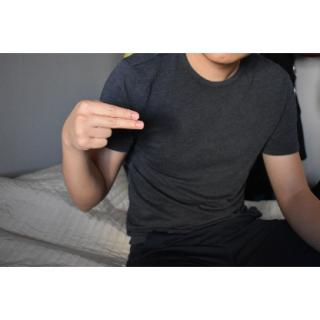AYN: (61, 97, 148, 155)
